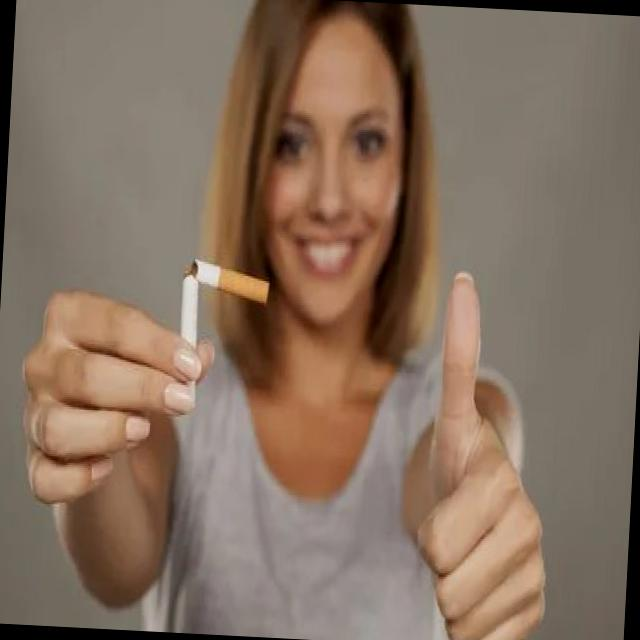cigarette: (191, 250, 272, 314), (173, 272, 200, 393)
